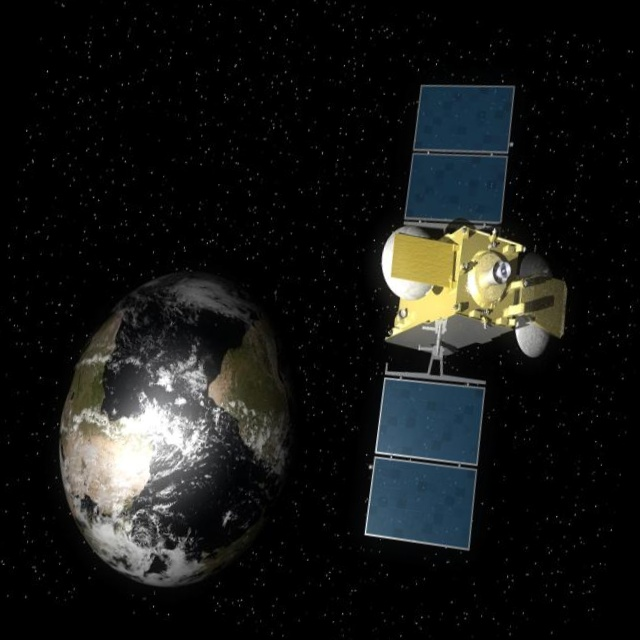medium_debris: (307, 8, 623, 638)
